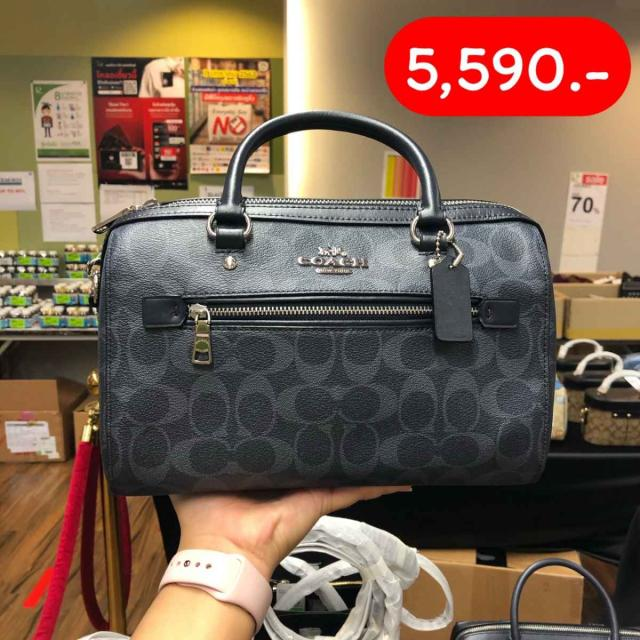Handbag: (74, 192, 563, 516)
